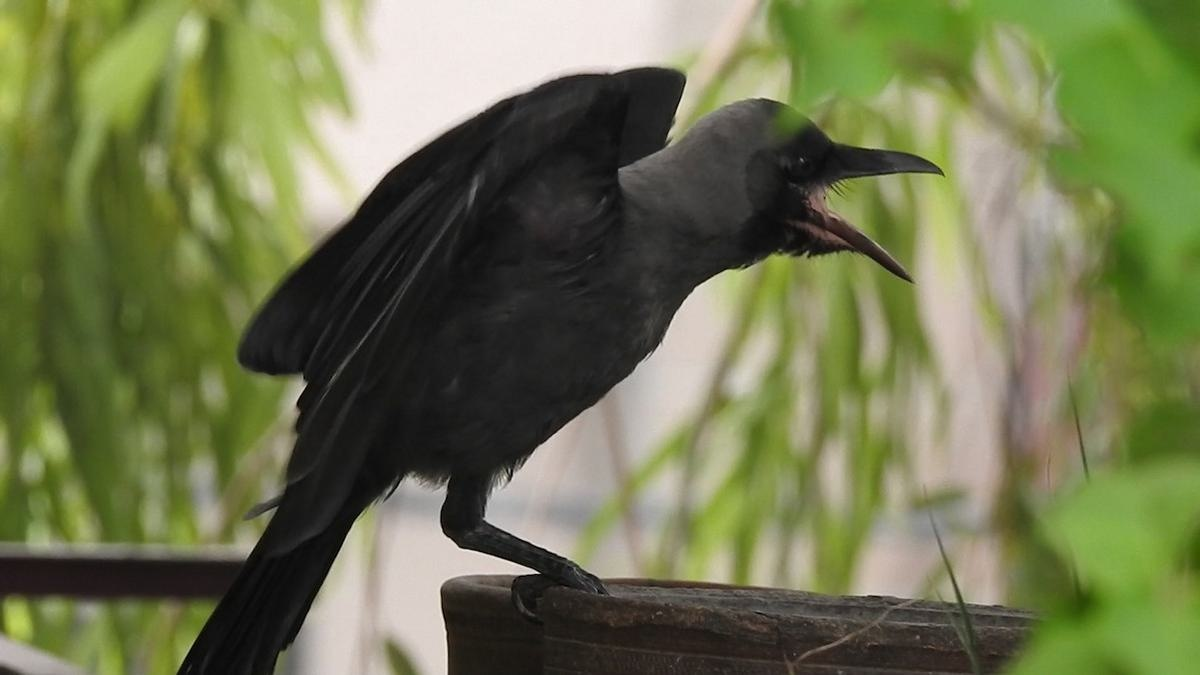crow: (94, 61, 986, 675)
